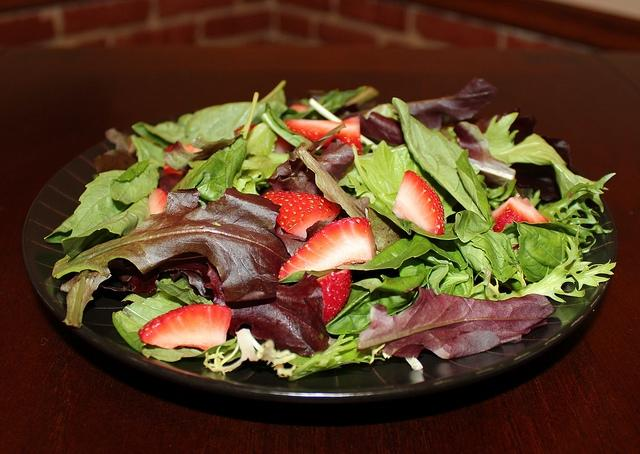lettuce: (52, 186, 292, 302), (357, 286, 556, 360), (392, 96, 490, 224), (204, 262, 330, 358), (338, 140, 456, 234), (43, 170, 150, 262), (112, 295, 237, 362), (502, 226, 610, 303), (142, 101, 264, 146), (406, 76, 498, 130), (500, 221, 580, 283), (455, 210, 521, 283), (99, 251, 211, 294), (185, 134, 248, 201), (453, 120, 516, 181), (540, 173, 616, 219), (351, 258, 426, 294), (260, 102, 314, 148), (492, 133, 566, 165), (110, 160, 160, 204), (343, 112, 405, 147), (316, 138, 354, 184), (316, 86, 368, 114), (130, 134, 166, 170), (232, 160, 262, 195), (469, 269, 500, 301), (452, 261, 473, 298), (382, 352, 390, 359)
strawberry: (278, 216, 377, 280), (138, 303, 232, 350), (262, 190, 340, 238), (392, 170, 446, 236), (285, 115, 363, 156), (492, 198, 552, 233), (317, 269, 352, 324), (164, 144, 202, 176), (148, 188, 168, 215), (288, 104, 310, 112)
